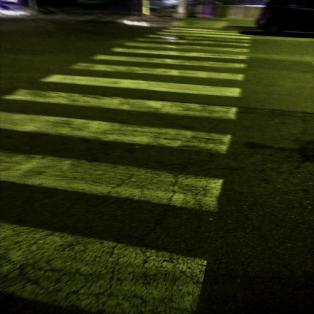Paso de Cebra: (32, 62, 247, 101)
